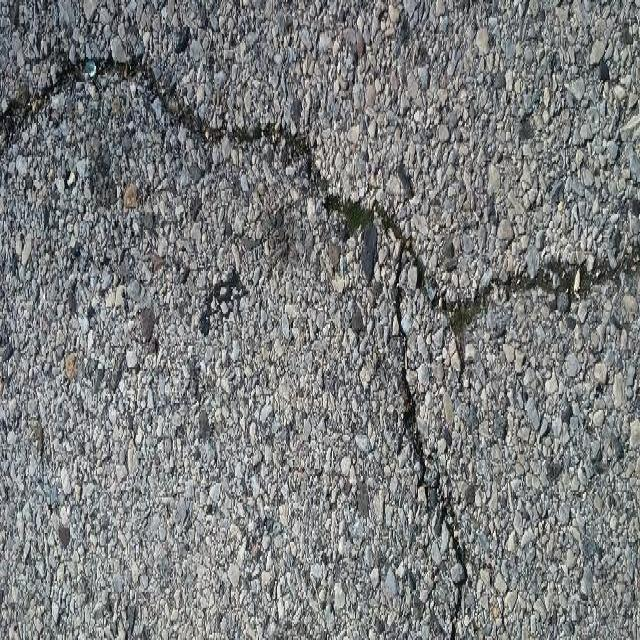GRIETA: (0, 56, 639, 329), (391, 247, 468, 639)
